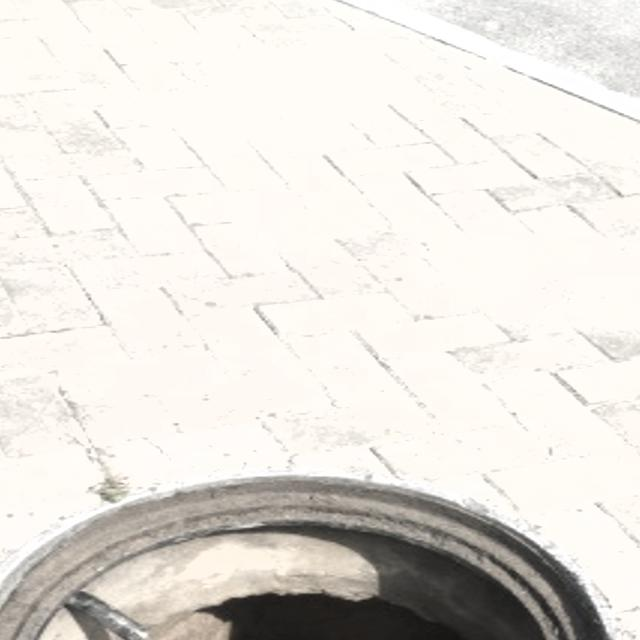lose: (0, 468, 627, 640)
